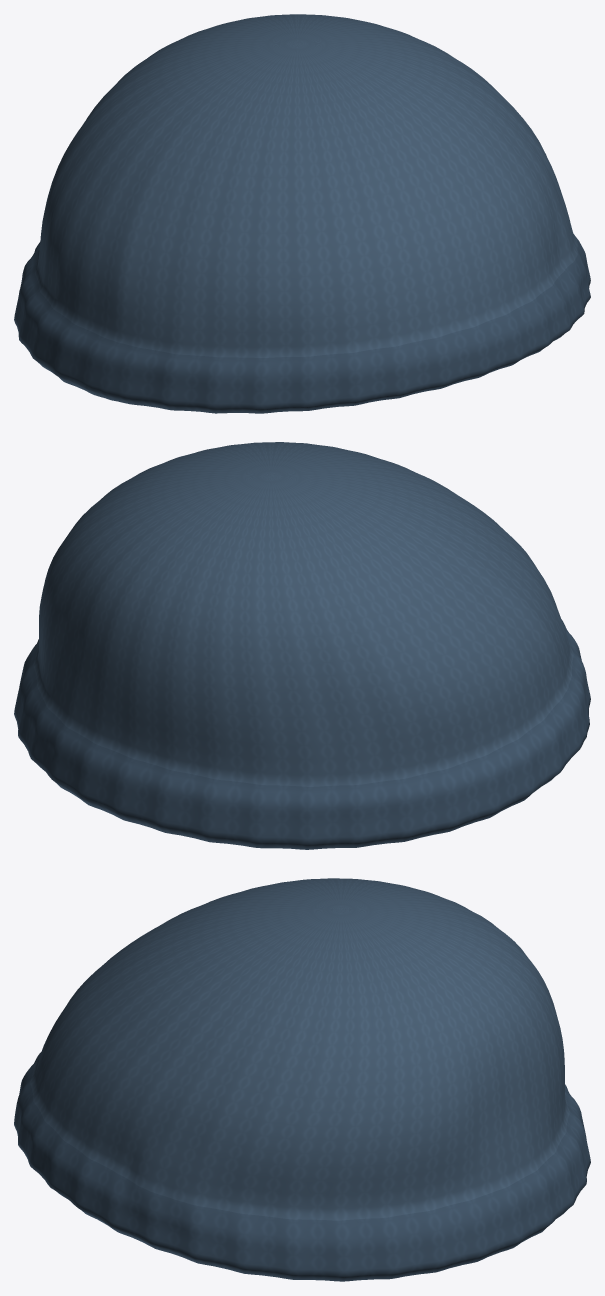
Rendered from beanie-masculine-taper.glb.
3 renders of one model, top to bottom at view 1: azimuth 30°, elevation 25°; view 2: azimuth 150°, elevation 25°; view 3: azimuth 270°, elevation 25°, orthographic.
Visible parts, largest first — view 1: Beanie / fitted knit; view 2: Beanie / fitted knit; view 3: Beanie / fitted knit.
Boxes of the visible parts, bbox=[...] form: Beanie / fitted knit: bbox=[14, 14, 590, 413]; Beanie / fitted knit: bbox=[14, 442, 590, 849]; Beanie / fitted knit: bbox=[14, 878, 590, 1281].
Size of the model in its own units: 0.8028 by 0.4059 by 0.7865.
2 materials, 2 textured.
